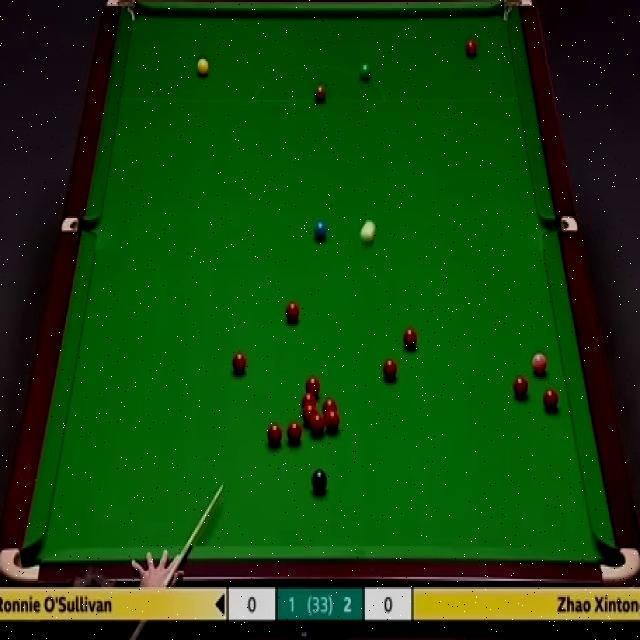black-ball: (311, 467, 328, 497)
blue-ball: (313, 221, 328, 242)
brown-ball: (314, 83, 326, 104)
green-ball: (358, 63, 372, 82)
pink-ball: (532, 351, 548, 376)
red-ball: (286, 419, 303, 448), (231, 350, 248, 378), (514, 375, 531, 400), (543, 388, 560, 412), (266, 422, 282, 447), (324, 410, 340, 435), (382, 358, 397, 383), (284, 302, 300, 324), (404, 326, 418, 351), (311, 412, 324, 436), (304, 376, 321, 393), (302, 406, 316, 424), (301, 392, 316, 408), (323, 400, 337, 414), (465, 41, 477, 57)
white-ball: (360, 216, 378, 247)
yellow-ball: (197, 59, 210, 79)
